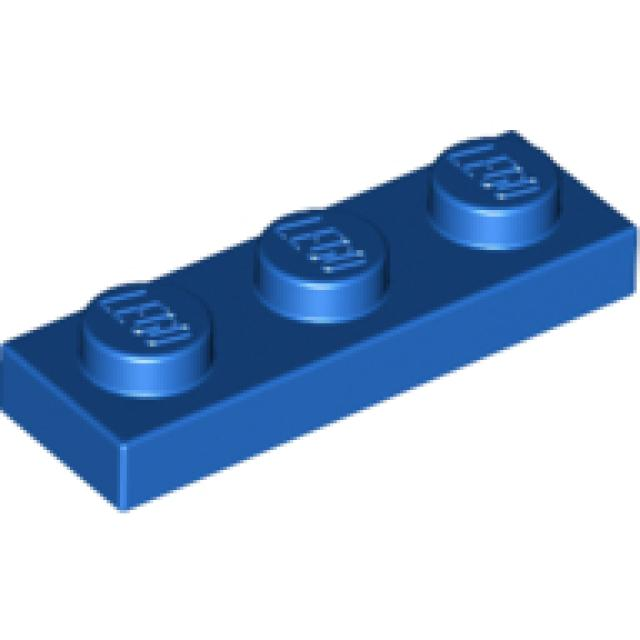Blue_Medium: (0, 130, 640, 517)
